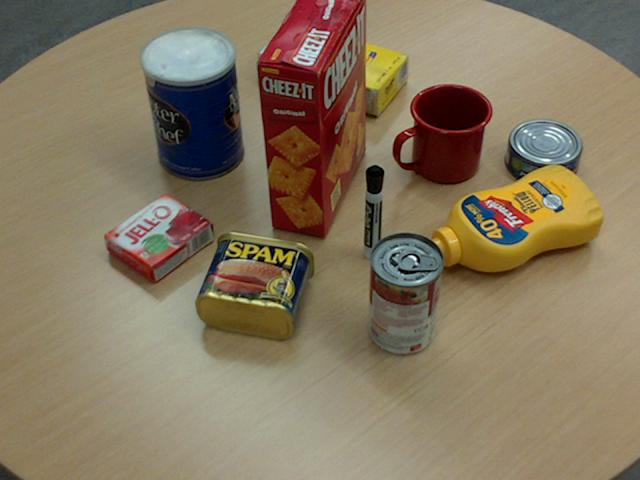cracker_box: (255, 0, 367, 237)
gelatin_box: (103, 191, 212, 282)
large_marker: (364, 165, 383, 259)
master_chef_can: (140, 27, 243, 180)
mug: (393, 83, 492, 183)
mustard_bottle: (419, 164, 601, 272)
potted_meat_can: (194, 230, 313, 338)
sugar_box: (256, 22, 408, 115)
tomato_soup_can: (368, 231, 443, 354)
tuna_fish_can: (504, 119, 580, 186)
